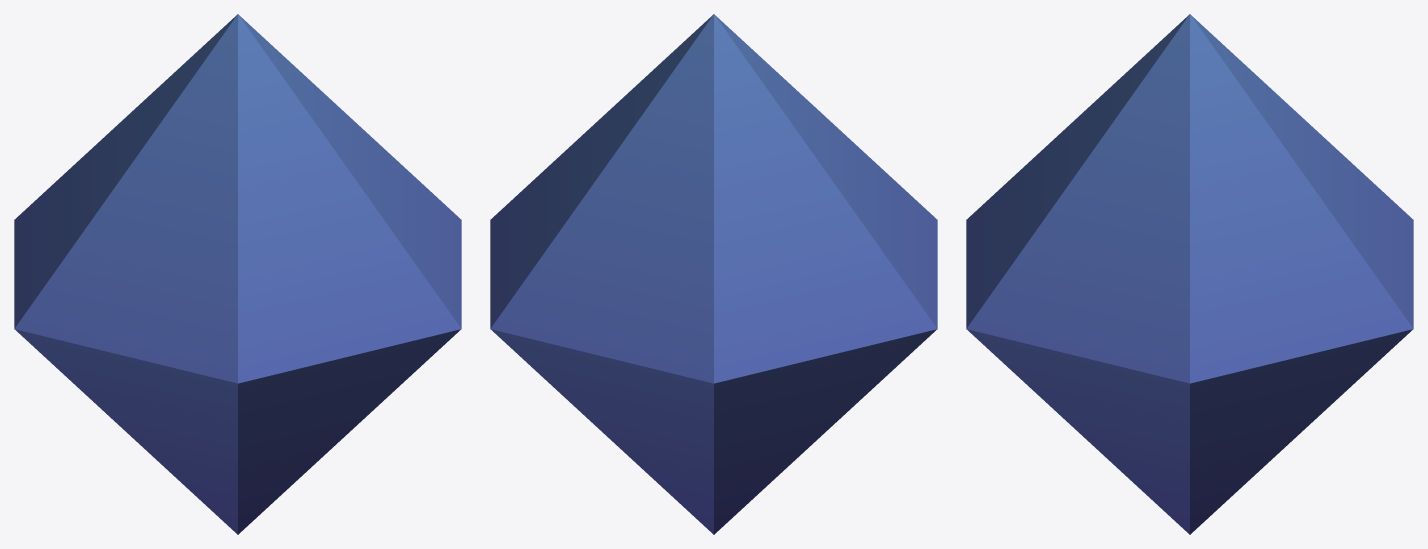
File: jewel.glb
The picture shows the model from 3 angles, left to right: view 1: azimuth 30°, elevation 25°; view 2: azimuth 150°, elevation 25°; view 3: azimuth 270°, elevation 25°; orthographic projection.
Parts seen in each view (by area): view 1: geometry_0; view 2: geometry_0; view 3: geometry_0.
Part boxes in pixels (x1=…): geometry_0: x1=14, y1=14, x2=461, y2=534; geometry_0: x1=490, y1=14, x2=937, y2=534; geometry_0: x1=966, y1=14, x2=1413, y2=534.
Size of the model in its own units: 0.5966 by 0.664 by 0.5167.
